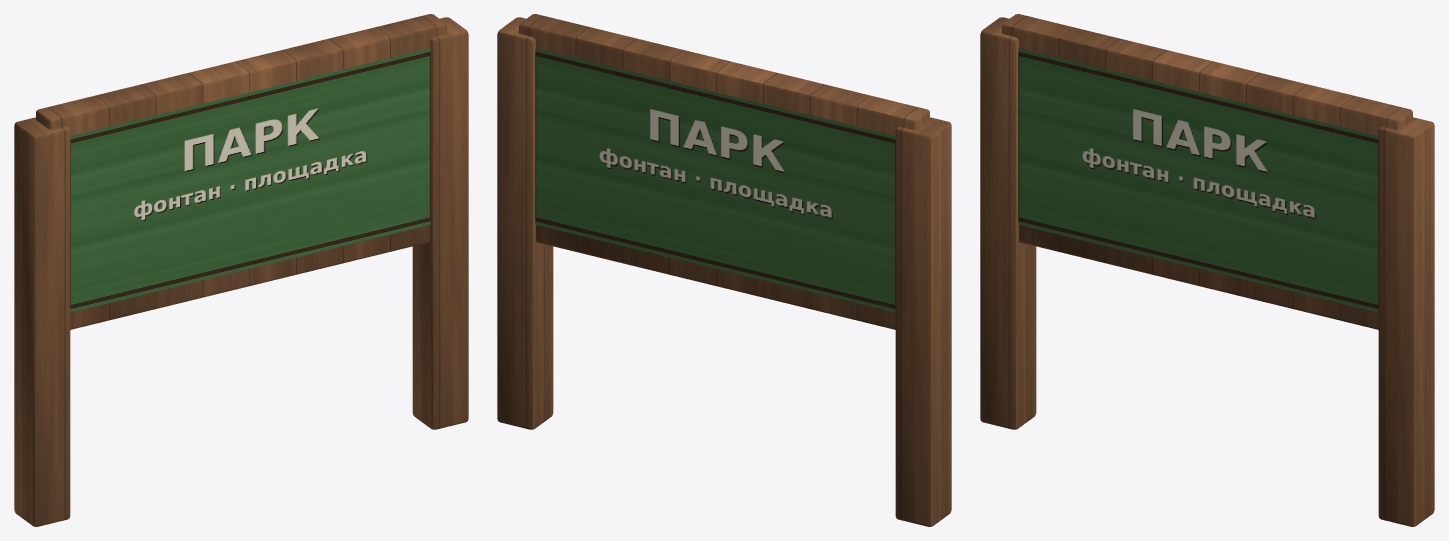
The model's file is sign_park.glb.
3 renders of one model, left to right at view 1: azimuth 30°, elevation 25°; view 2: azimuth 150°, elevation 25°; view 3: azimuth 330°, elevation 25°, orthographic.
Parts seen in each view (by area): view 1: sign_park; view 2: sign_park; view 3: sign_park.
Part boxes in pixels (left/top/right/bottom): sign_park: left=14, top=14, right=468, bottom=526; sign_park: left=497, top=14, right=951, bottom=526; sign_park: left=980, top=14, right=1434, bottom=526.
Bounding box in the file's own units: 1.86 × 1.64 × 0.16.
Materials: 2 (2 with a texture image).
